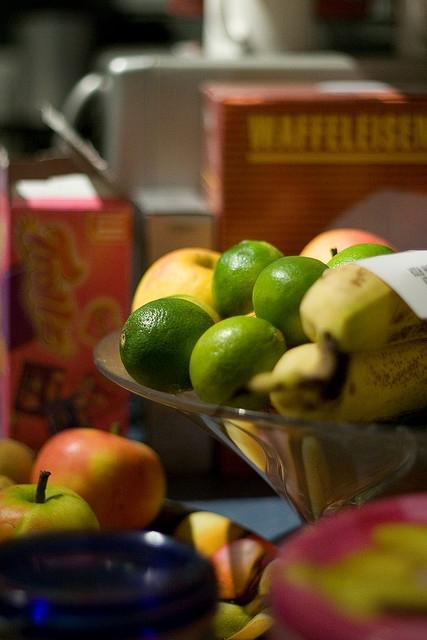apple: (30, 422, 167, 530), (0, 469, 101, 542), (132, 247, 222, 313), (206, 538, 276, 608), (300, 228, 400, 264), (175, 511, 246, 561), (0, 438, 36, 484), (0, 474, 20, 491)
banana: (247, 332, 427, 424), (298, 264, 426, 355)
lime: (119, 298, 214, 394), (188, 316, 288, 406), (252, 256, 330, 350), (211, 240, 287, 318), (326, 243, 396, 269), (167, 294, 221, 324)
